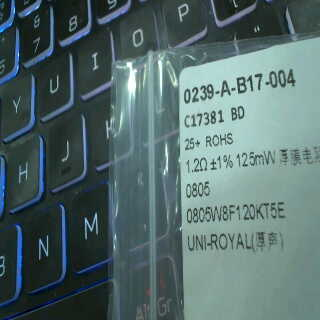1.2R: (182, 155, 212, 203)
